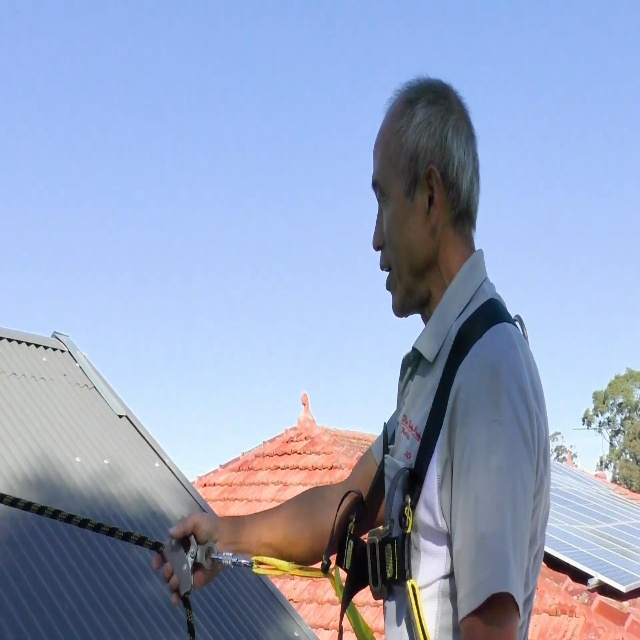Arnes_seguridad: (313, 288, 576, 640)
